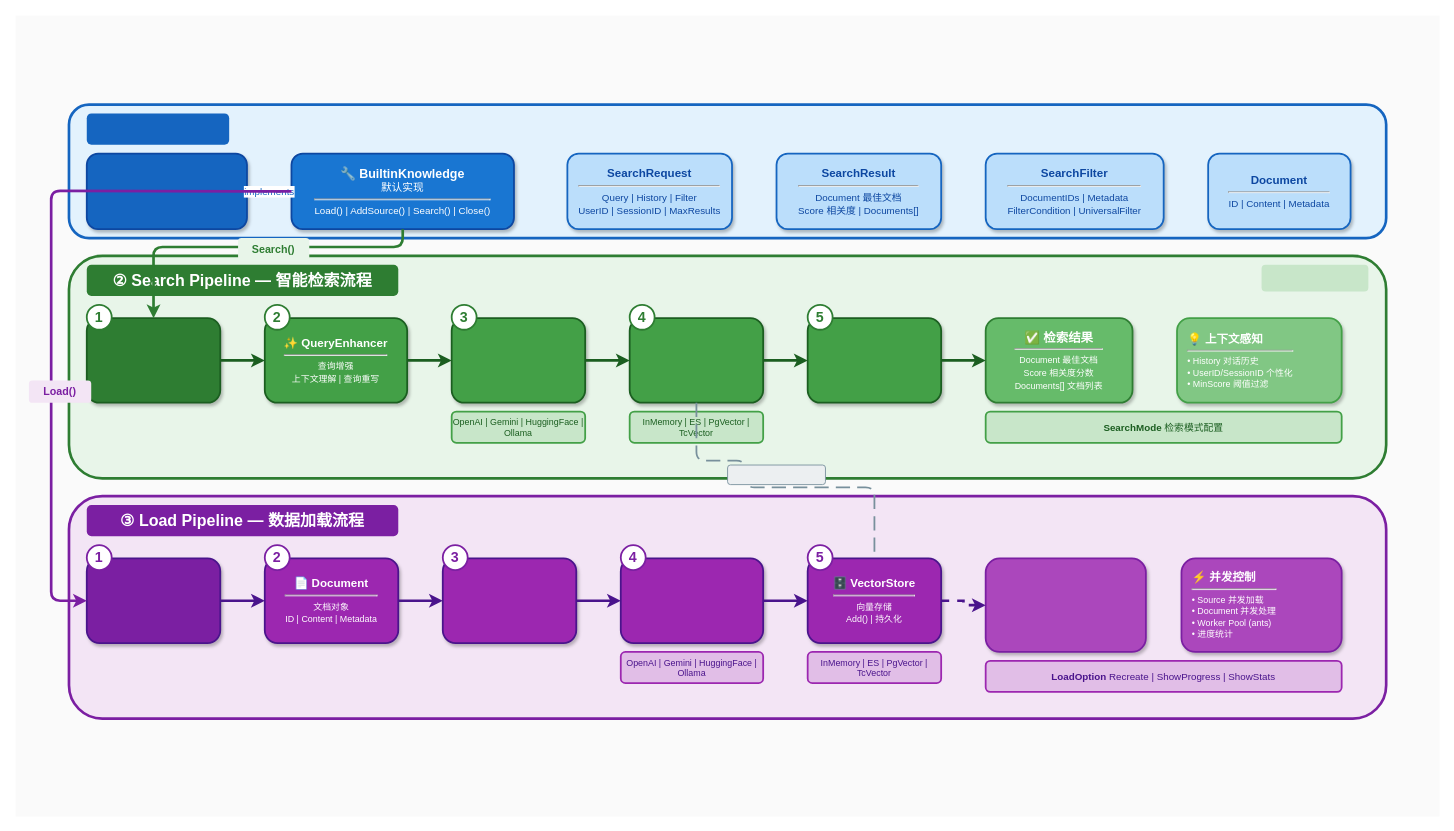
The diagram is 1454 pixels wide and 831 high, and some of its shapes have lost their labels. The shapes that lost their labels are listed below. From the top down, each one's centre as x and y in pixels, then its label:
(157,128): ① API 接口层
(167,192): 📚 Knowledge 核心接口 Search(ctx, req) → SearchResult
(1314,277): 完整 RAG 流程
(154,361): 🎯 Retriever 检索协调器 Retrieve() 管理完整 RAG 流程
(519,361): 🔢 Embedder 查询向量化 GetEmbedding()
(697,361): 🗄️ VectorStore 向量相似度检索 Search() | 过滤条件
(875,361): 🔄 Reranker 结果重排序 相关性优化 | TopK 筛选
(776,474): 共享 VectorStore
(154,602): 📂 Source 数据源接口 ReadDocuments() Name() | Type()
(510,602): ✂️ Chunking 文档分块 策略配置 | 重叠处理
(692,602): 🔢 Embedder 向量嵌入 GetEmbedding() | 批量处理
(1066,606): 🔄 增量同步 • 文档去重 (DocumentID) • 变更检测 (shouldProcess) • 孤儿文档清理 • 元数据缓存
